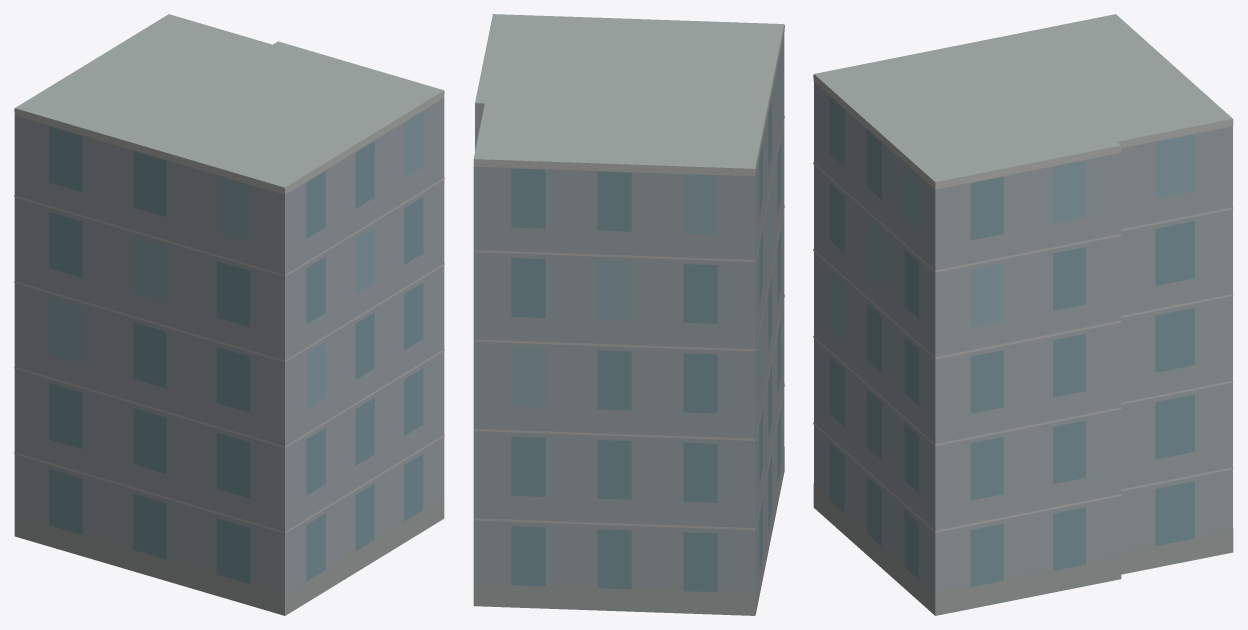
The model's file is survey-upis-32802078.glb.
The picture shows the model from 3 angles, left to right: view 1: azimuth 30°, elevation 25°; view 2: azimuth 150°, elevation 25°; view 3: azimuth 270°, elevation 25°; orthographic projection. The views are drawn at different scales.
Visible parts, largest first — view 1: survey-upis-32802078.tmp; view 2: survey-upis-32802078.tmp; view 3: survey-upis-32802078.tmp.
Boxes of the visible parts, x1,y1,x2,y2 form: survey-upis-32802078.tmp: (14, 14, 444, 615); survey-upis-32802078.tmp: (473, 14, 784, 615); survey-upis-32802078.tmp: (813, 14, 1233, 615).
Size of the model in its own units: 12.01 by 14.4 by 12.64.
